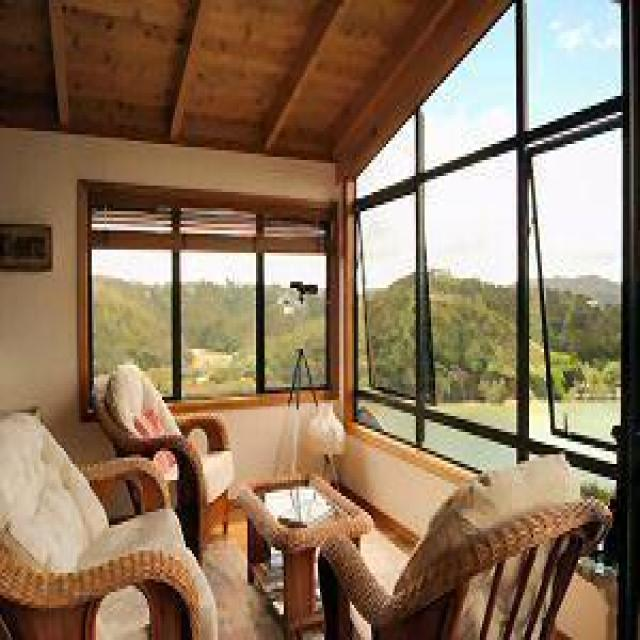sofa: (316, 451, 612, 637), (0, 403, 218, 637), (92, 362, 235, 566)
table: (237, 470, 373, 637)
windows: (77, 179, 337, 416)
